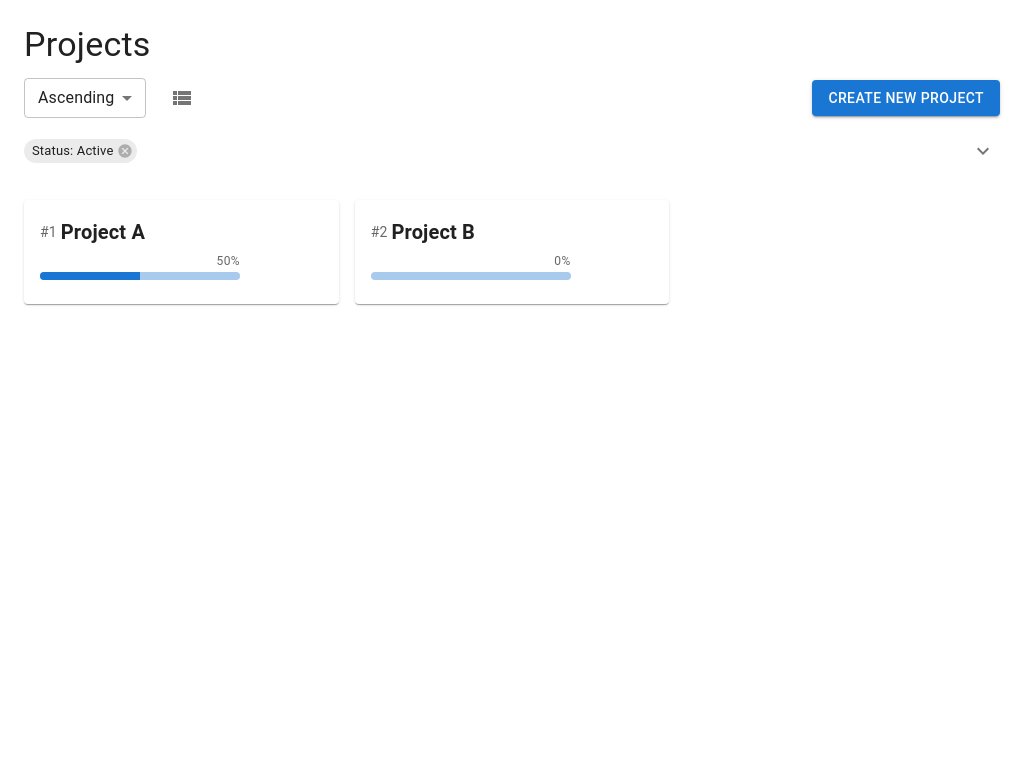
it: Projects Component › filters projects by name
Step 1. Click the button named "expand filters" → (983, 151), box [966,134,1000,168]
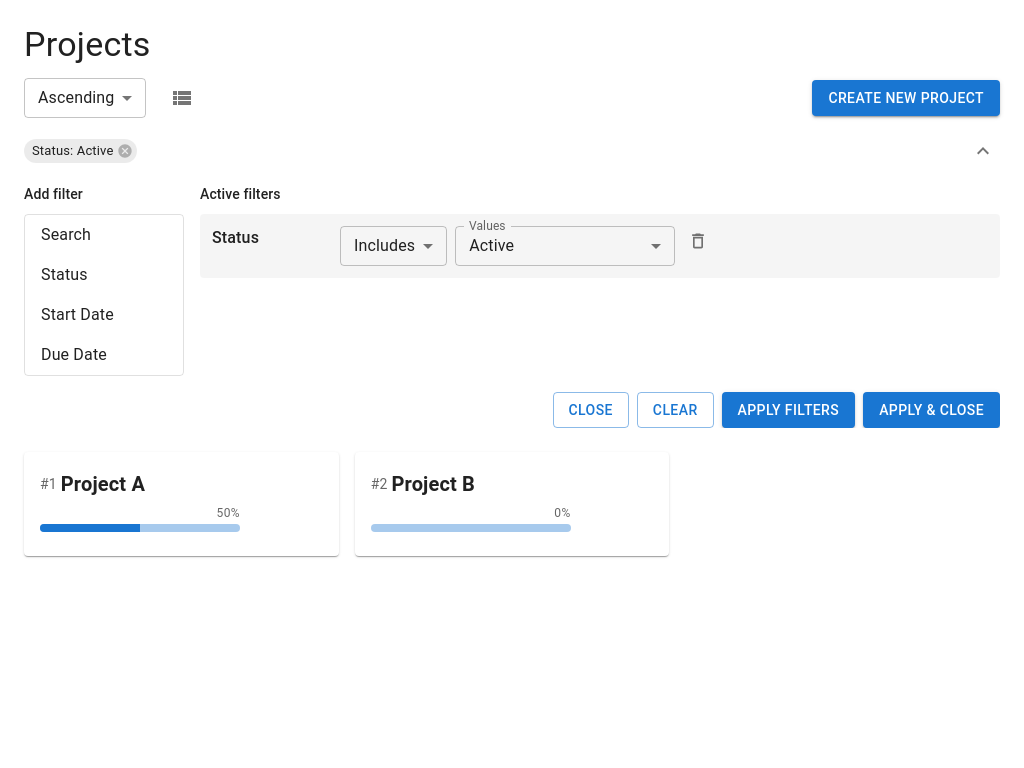
Step 2. Click the button with test id "add-filter-search" → (66, 234), box [41,225,91,244]
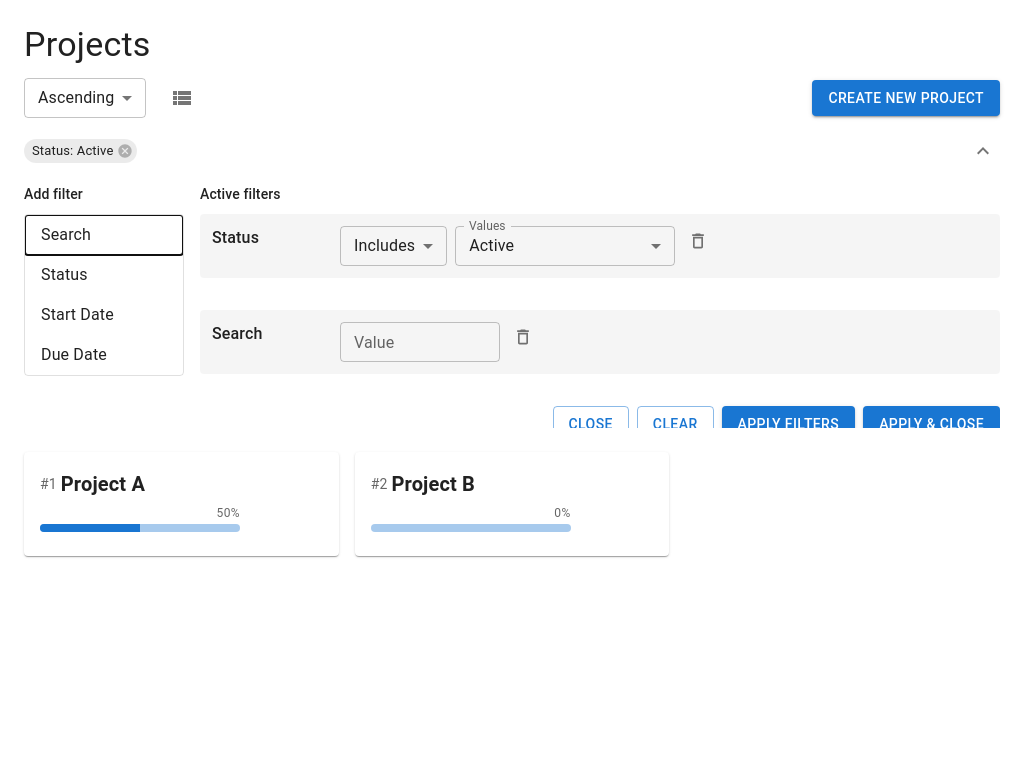
Step 3. Type "Project A" into the field labelled "Value" → (420, 342), box [340,322,500,362]
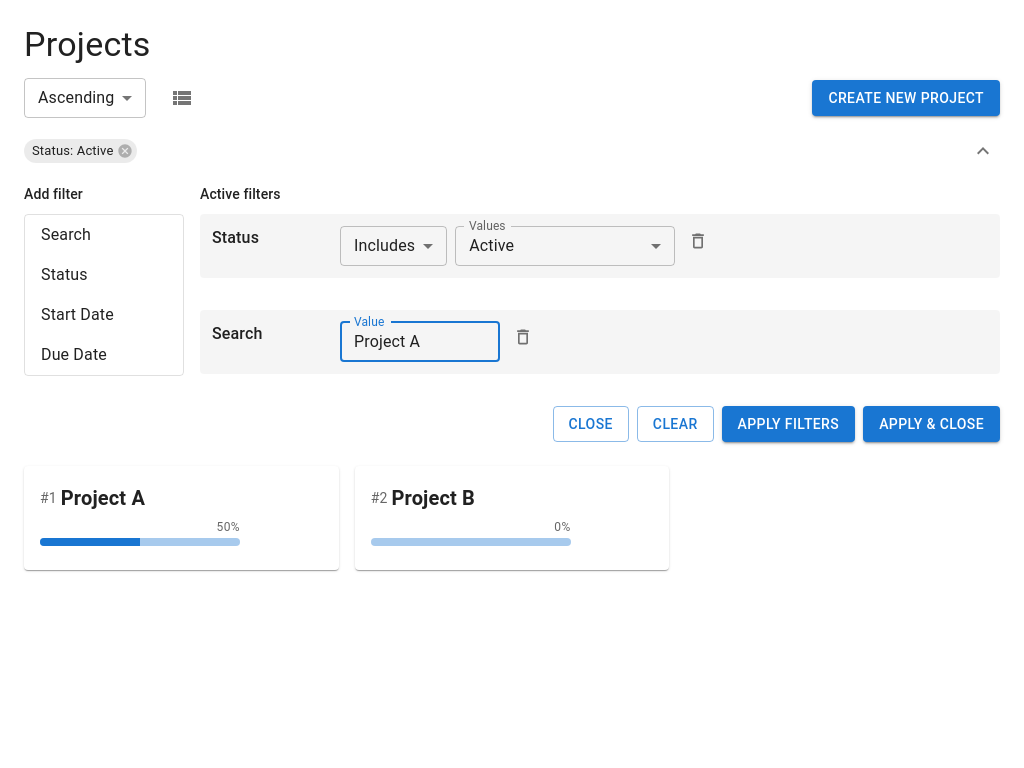
Step 4. Click the button "Apply Filters" → (788, 424), box [722,406,855,442]
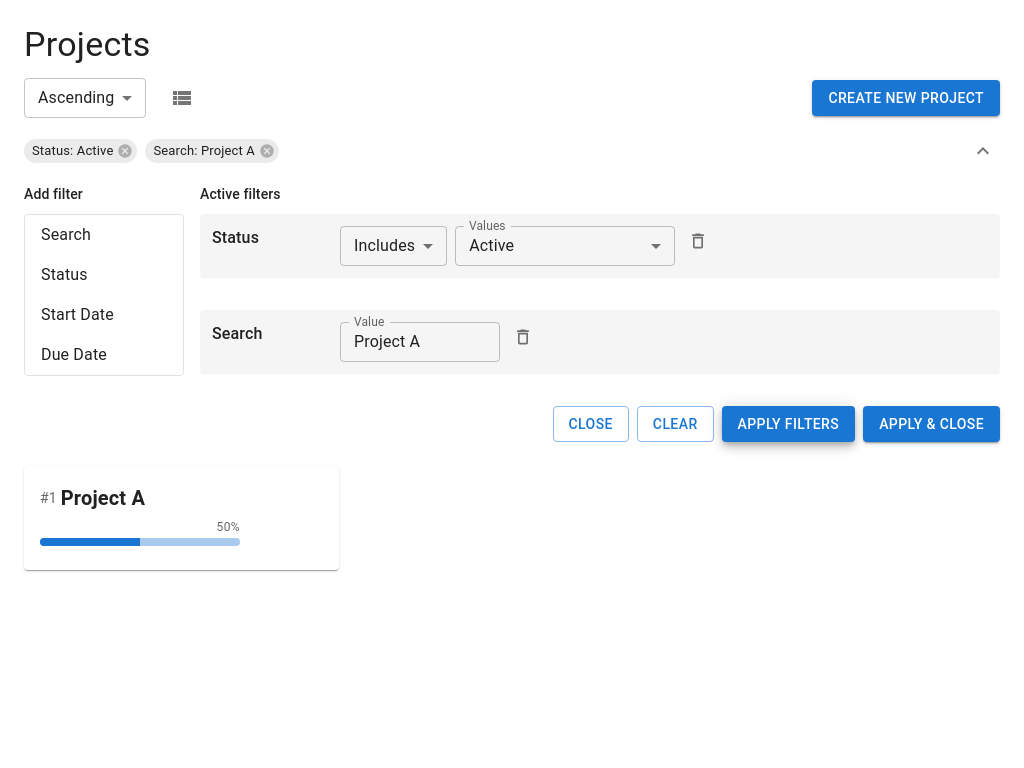
Expected: the heading "Project A" is shown, [61,482,145,514]
Expected: the heading "Project B" is gone
